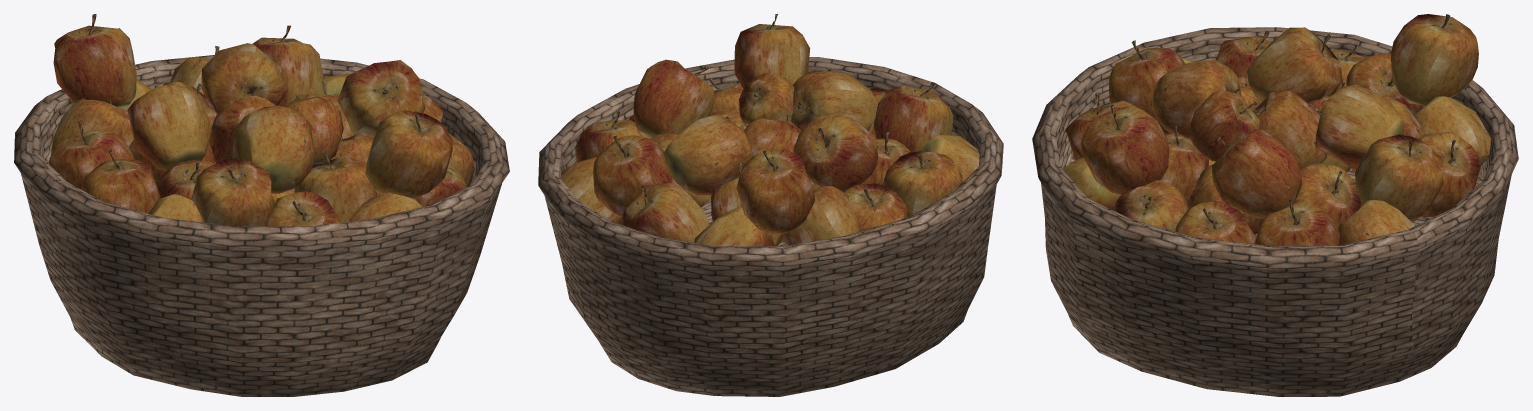
File: Fruit_Basket_01.glb
3 renders of one model, left to right at view 1: azimuth 30°, elevation 25°; view 2: azimuth 150°, elevation 25°; view 3: azimuth 270°, elevation 25°, orthographic. The views are drawn at different scales.
Parts seen in each view (by area): view 1: Fruit_Basket_01; view 2: Fruit_Basket_01; view 3: Fruit_Basket_01.
Boxes of the visible parts, left/top/right/bottom form: Fruit_Basket_01: left=14, top=14, right=509, bottom=396; Fruit_Basket_01: left=538, top=14, right=1003, bottom=396; Fruit_Basket_01: left=1032, top=14, right=1518, bottom=396.
Bounding box in the file's own units: 0.7354 × 0.4448 × 0.7169.
2 materials, 2 textured.
